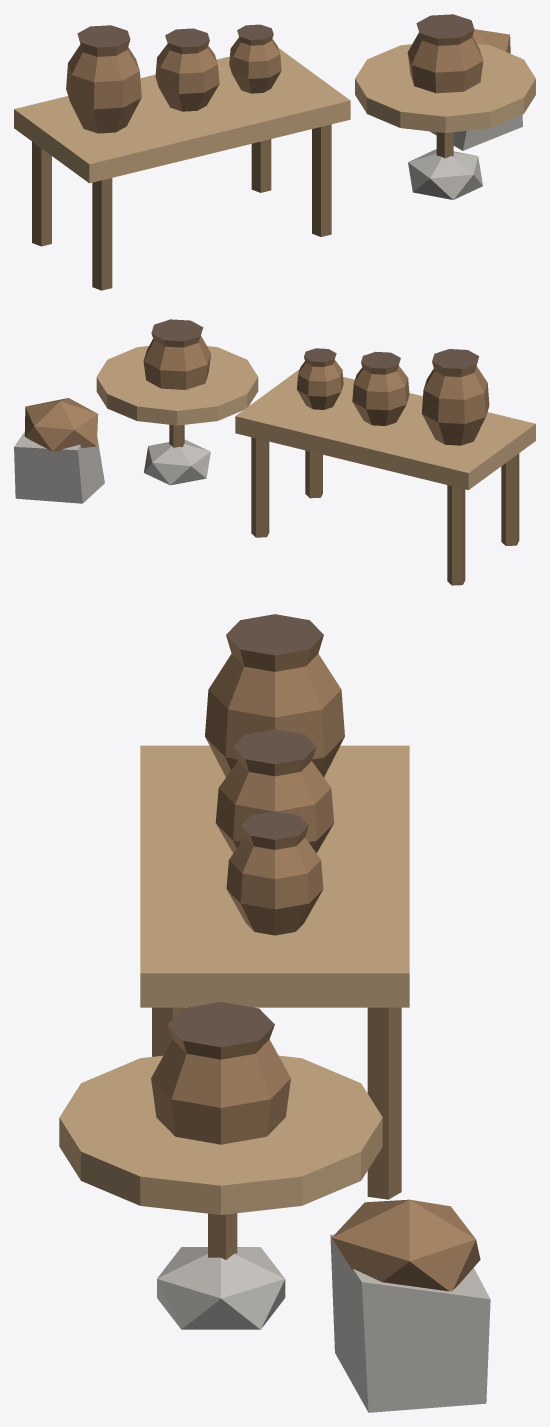
File: w3d_station_pottery_bench.glb
3 views of the same model, one above another, from view 1: azimuth 30°, elevation 25°; view 2: azimuth 150°, elevation 25°; view 3: azimuth 270°, elevation 25° (orthographic). The views are drawn at different scales.
Visible parts, largest first — view 1: pottery_bench; view 2: pottery_bench; view 3: pottery_bench.
Part boxes in pixels (box(x1,y1,x2,y2)): pottery_bench: box(14, 14, 535, 290); pottery_bench: box(14, 319, 535, 585); pottery_bench: box(59, 614, 490, 1412).
Size of the model in its own units: 1.9 by 0.805 by 0.8001.
